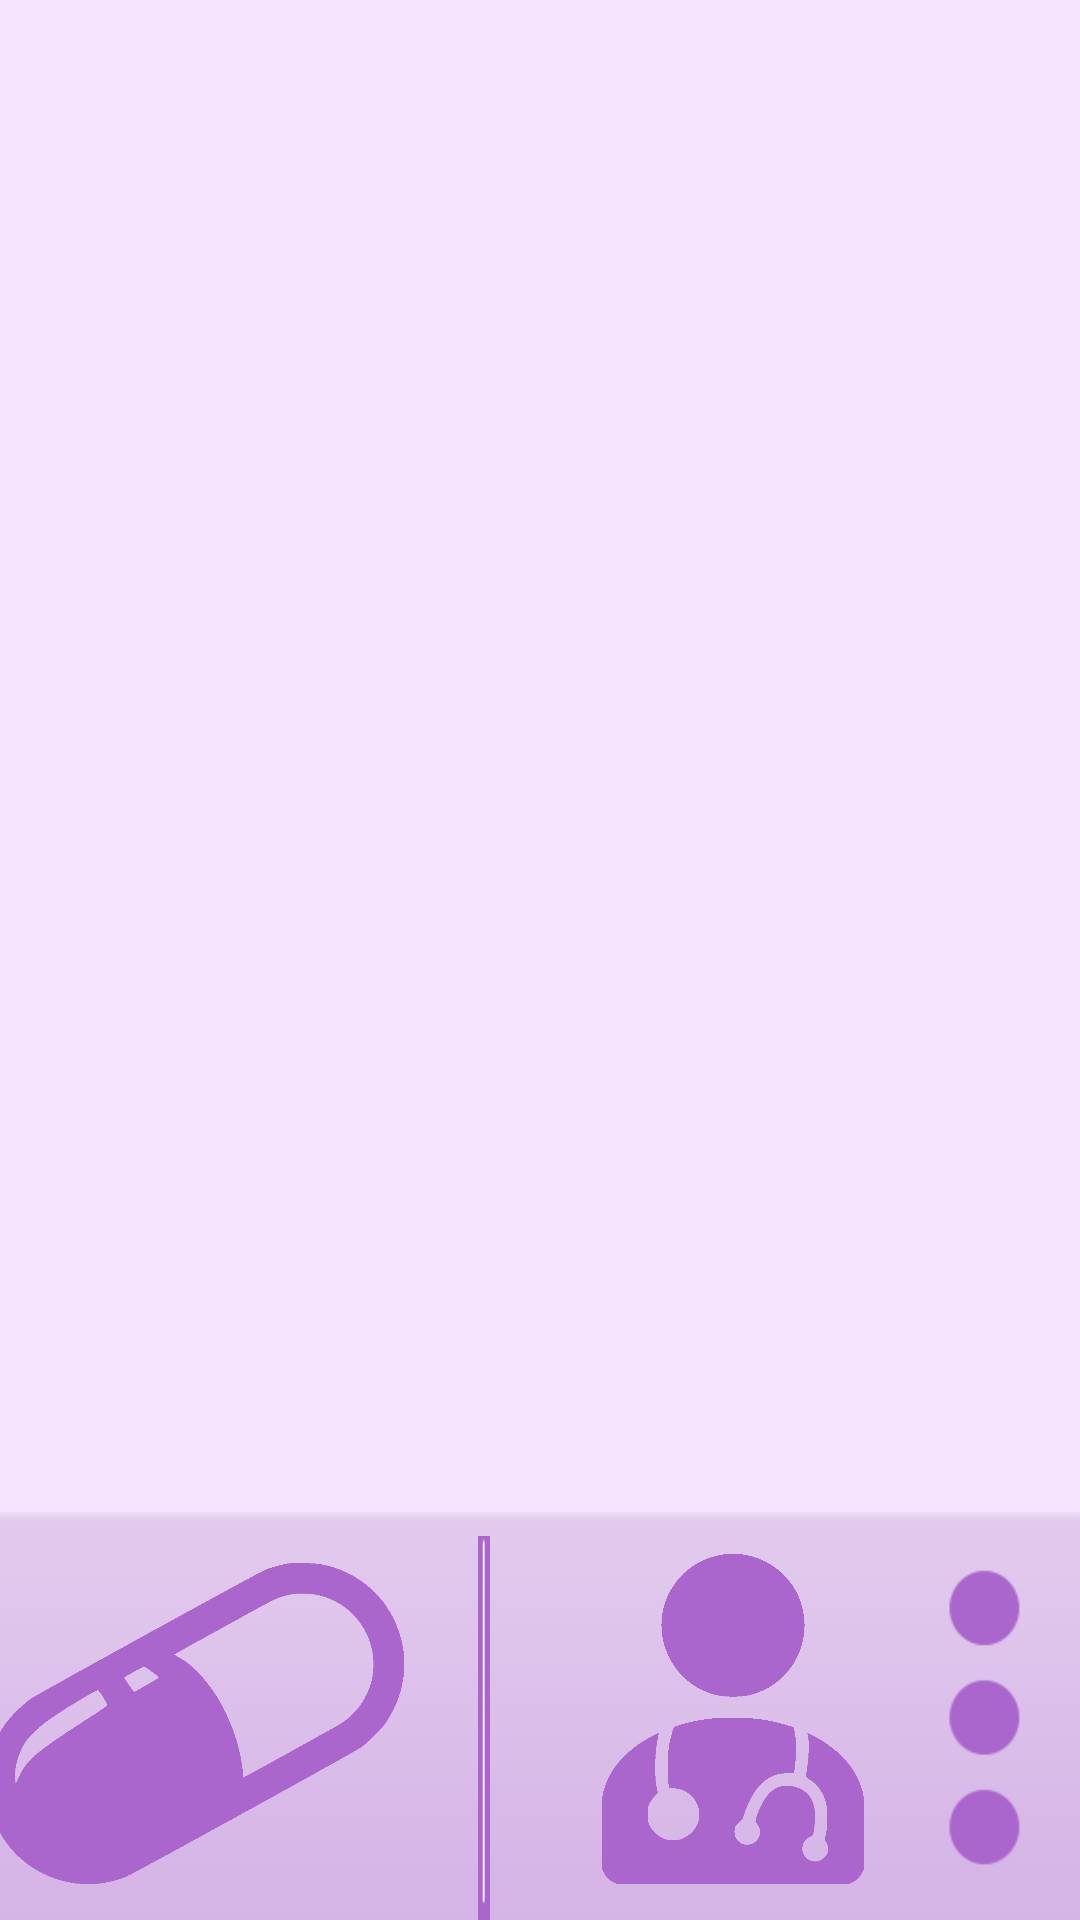

Point at icon controls on the screen. Image size 1080x1920, points as [x,y].
Add appointment button: [733,1719]
bar settings: [984,1718]
